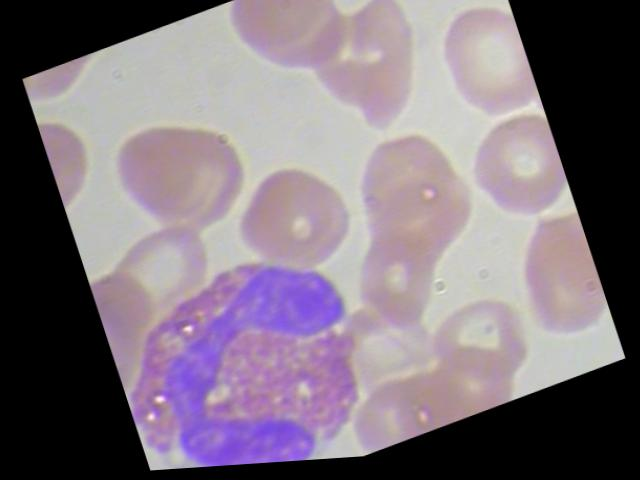Red Blood Cells: (221, 153, 360, 299), (483, 211, 613, 366), (97, 96, 229, 243), (414, 0, 541, 147), (449, 106, 576, 252), (424, 296, 532, 407), (215, 0, 342, 75), (22, 45, 124, 101)
White Blood Cells: (96, 223, 399, 474)
